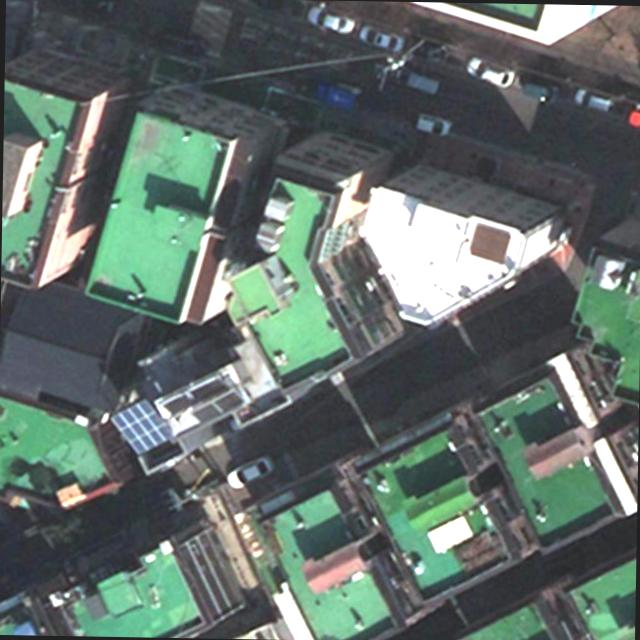solar: (108, 396, 172, 458)
